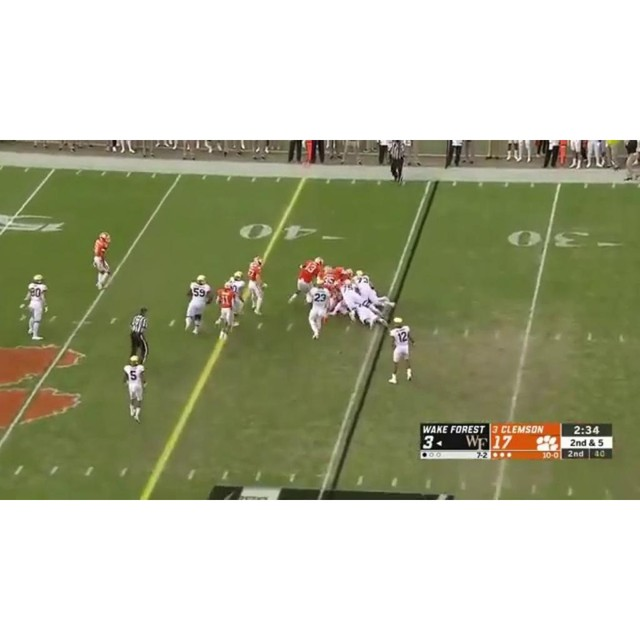american-football-player: (387, 318, 414, 384), (288, 257, 324, 306), (23, 274, 48, 341), (122, 355, 147, 422), (185, 274, 211, 336), (306, 280, 330, 342), (247, 256, 266, 315), (92, 231, 111, 290), (215, 283, 235, 339), (227, 270, 246, 318)
referee: (129, 305, 149, 364)
